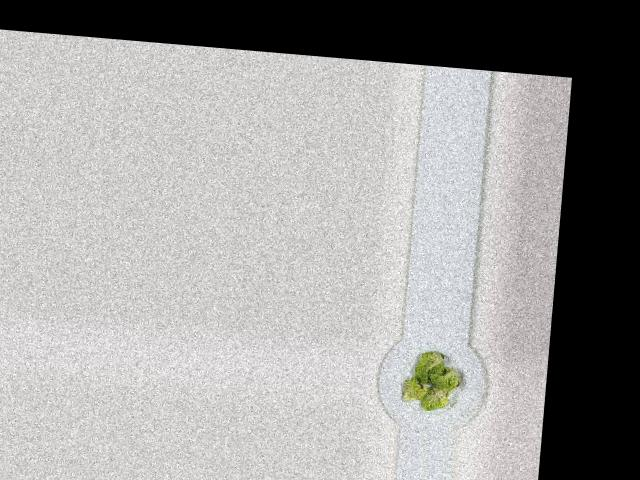lettuce: (399, 343, 465, 412)
